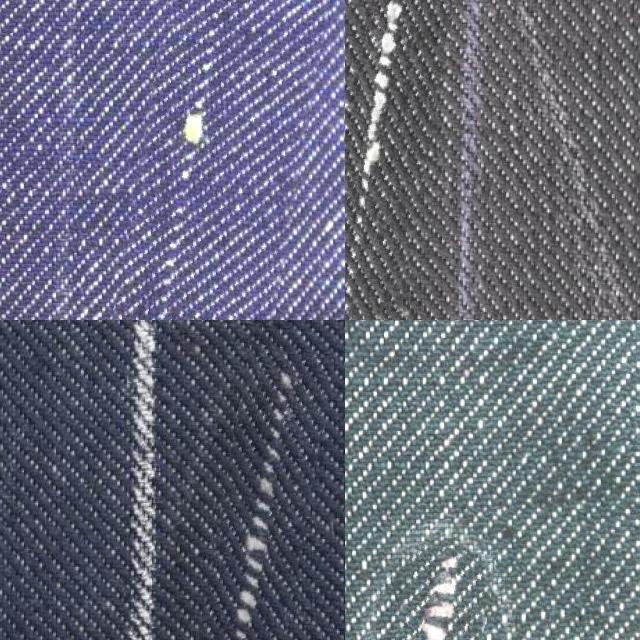Thread_other: (101, 0, 308, 320), (198, 344, 319, 640), (345, 0, 439, 320), (393, 544, 491, 640)
